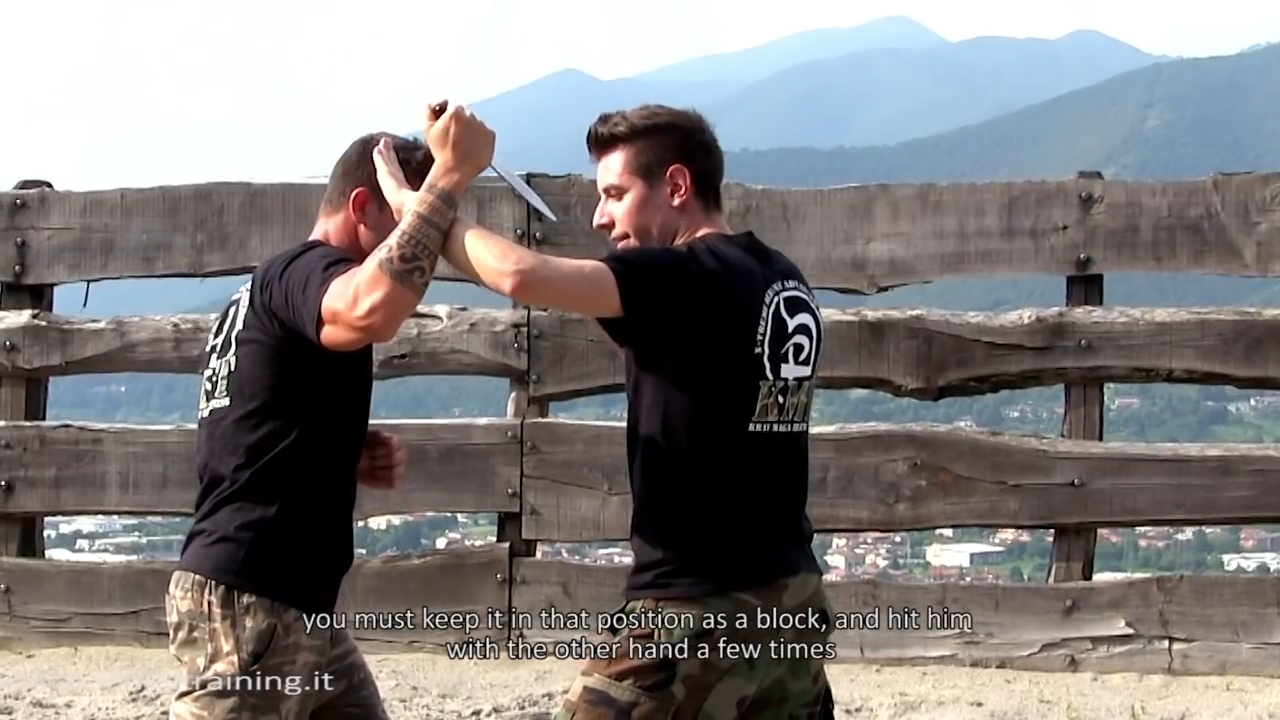knife: (419, 93, 564, 230)
